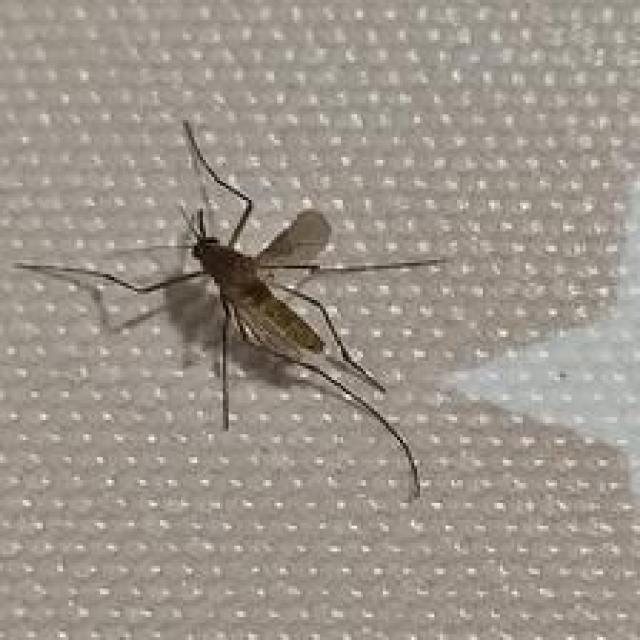Culex: (13, 119, 447, 504)
